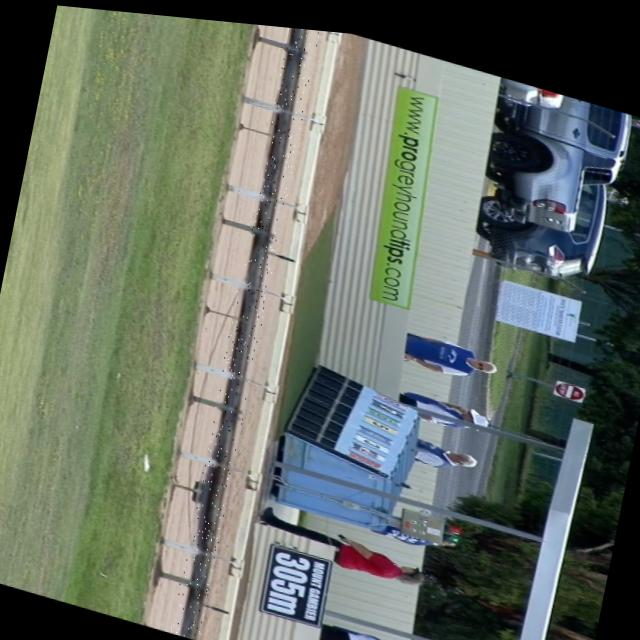rail: (181, 22, 306, 637)
